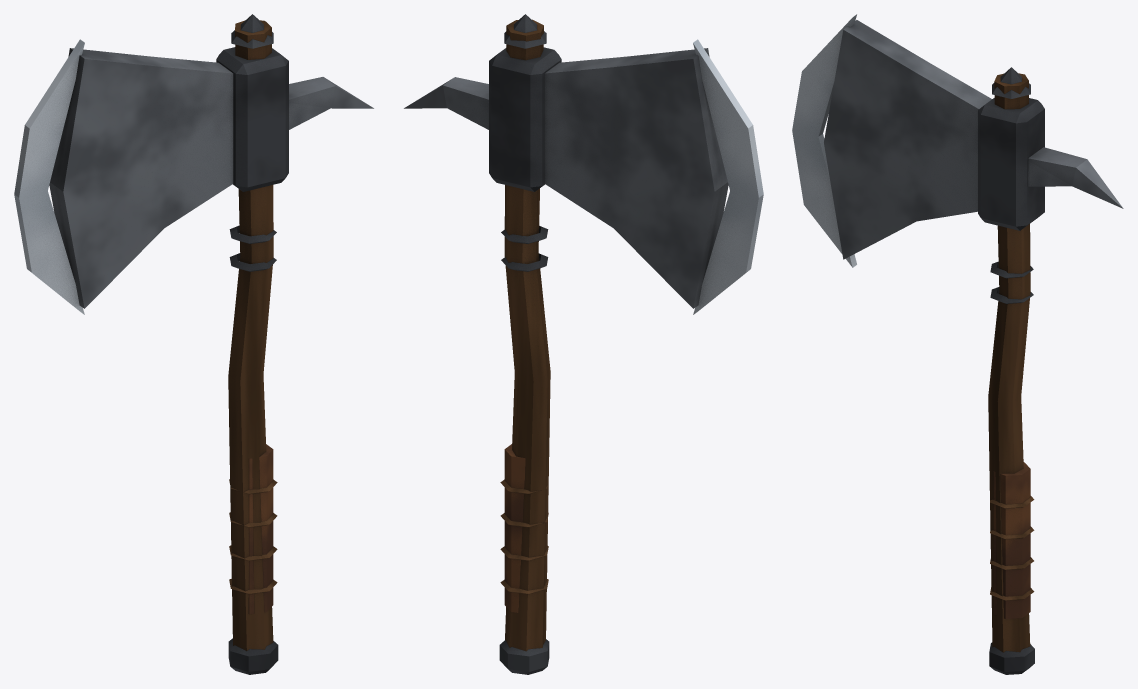
Rendered from hacha_hierro.fbx.
3 renders of one model, left to right at view 1: azimuth 30°, elevation 25°; view 2: azimuth 150°, elevation 25°; view 3: azimuth 330°, elevation 25°, orthographic. The views are drawn at different scales.
Visible parts, largest first — view 1: hacha_hierro; view 2: hacha_hierro; view 3: hacha_hierro.
Boxes of the visible parts, x1,y1,x2,y2 form: hacha_hierro: [14, 14, 373, 674]; hacha_hierro: [404, 14, 763, 674]; hacha_hierro: [792, 14, 1123, 674].
Bounding box in the file's own units: 3.37 × 6 × 0.46.
1 material, 1 textured.
